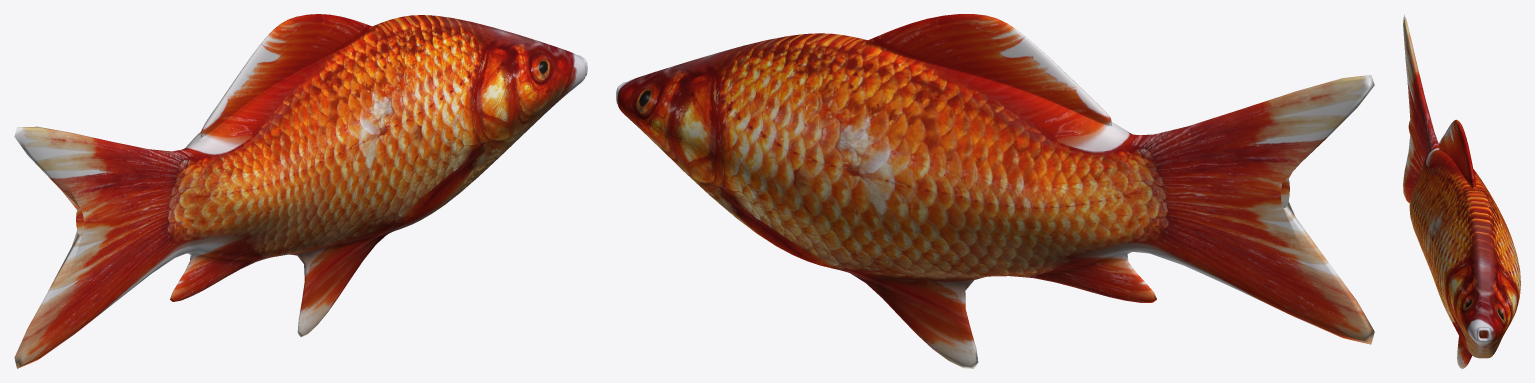
Rendered from goldfish.glb.
The picture shows the model from 3 angles, left to right: view 1: azimuth 30°, elevation 25°; view 2: azimuth 150°, elevation 25°; view 3: azimuth 270°, elevation 25°; orthographic projection. The views are drawn at different scales.
Visible parts, largest first — view 1: Cube; view 2: Cube; view 3: Cube.
Boxes of the visible parts, x1,y1,x2,y2 form: Cube: (14,14,587,368); Cube: (616,14,1374,368); Cube: (1403,14,1520,368).
Bounding box in the file's own units: 1.82 × 0.8932 × 0.3998.
1 material, 1 textured.
